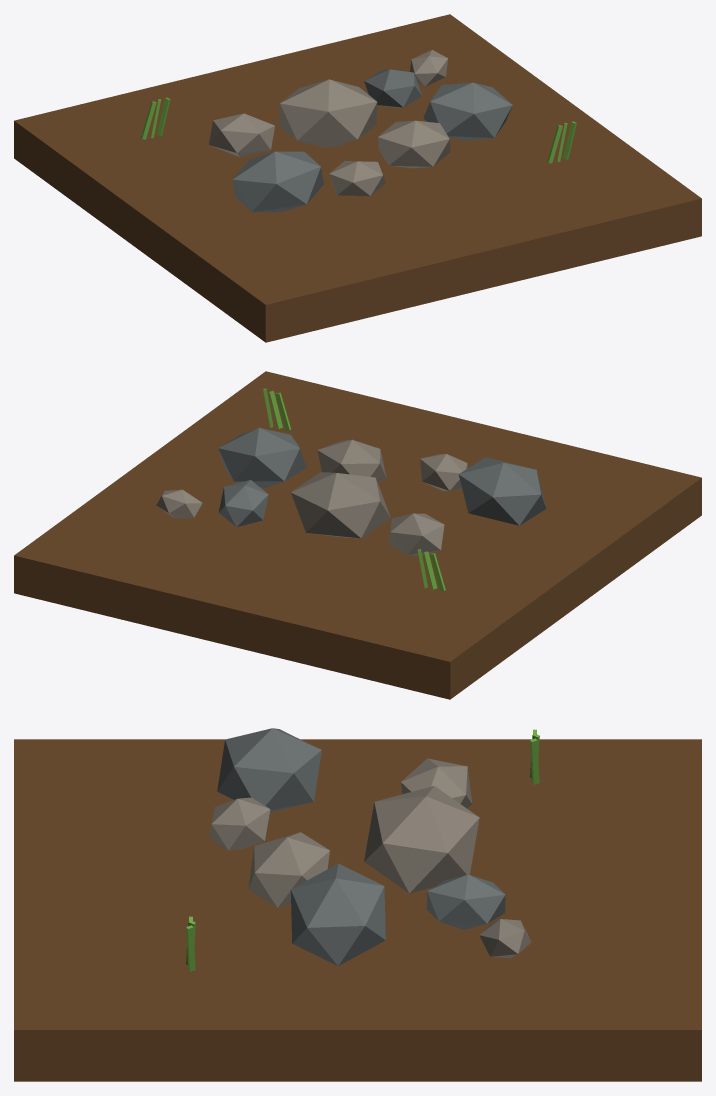
Rendered from field_rocks.glb.
3 views of the same model, one above another, from view 1: azimuth 30°, elevation 25°; view 2: azimuth 150°, elevation 25°; view 3: azimuth 270°, elevation 25° (orthographic). The views are drawn at different scales.
Parts seen in each view (by area): view 1: TerrainBase, FieldRock.005, FieldRock, FieldRock.003, FieldRock.002, FieldRock.004, FieldRock.006, FieldRock.001, FieldRock.007; view 2: TerrainBase, FieldRock.005, FieldRock, FieldRock.003, FieldRock.002, FieldRock.004, FieldRock.006, FieldRock.001, FieldRock.007; view 3: TerrainBase, FieldRock.005, FieldRock.003, FieldRock, FieldRock.002, FieldRock.006, FieldRock.001, FieldRock.004, FieldRock.007.
Part boxes in pixels (x1,y1,x2,y2): TerrainBase: [14, 14, 701, 342]; FieldRock.005: [279, 79, 377, 147]; FieldRock: [232, 151, 323, 212]; FieldRock.003: [423, 82, 512, 140]; FieldRock.002: [378, 120, 450, 168]; FieldRock.004: [209, 113, 274, 156]; FieldRock.006: [364, 69, 421, 107]; FieldRock.001: [329, 161, 385, 196]; FieldRock.007: [410, 50, 448, 86]; TerrainBase: [14, 371, 701, 699]; FieldRock.005: [291, 472, 390, 538]; FieldRock: [458, 457, 546, 525]; FieldRock.003: [218, 427, 306, 488]; FieldRock.002: [317, 439, 386, 482]; FieldRock.004: [388, 513, 444, 555]; FieldRock.006: [218, 480, 268, 527]; FieldRock.001: [420, 454, 467, 490]; FieldRock.007: [156, 489, 202, 518]; TerrainBase: [14, 739, 701, 1081]; FieldRock.005: [364, 786, 479, 893]; FieldRock.003: [290, 863, 385, 965]; FieldRock: [217, 728, 321, 812]; FieldRock.002: [248, 832, 329, 907]; FieldRock.006: [426, 874, 505, 929]; FieldRock.001: [209, 797, 270, 850]; FieldRock.004: [401, 758, 472, 808]; FieldRock.007: [479, 919, 531, 958].
Size of the model in its own units: 7 by 1.54 by 7.
